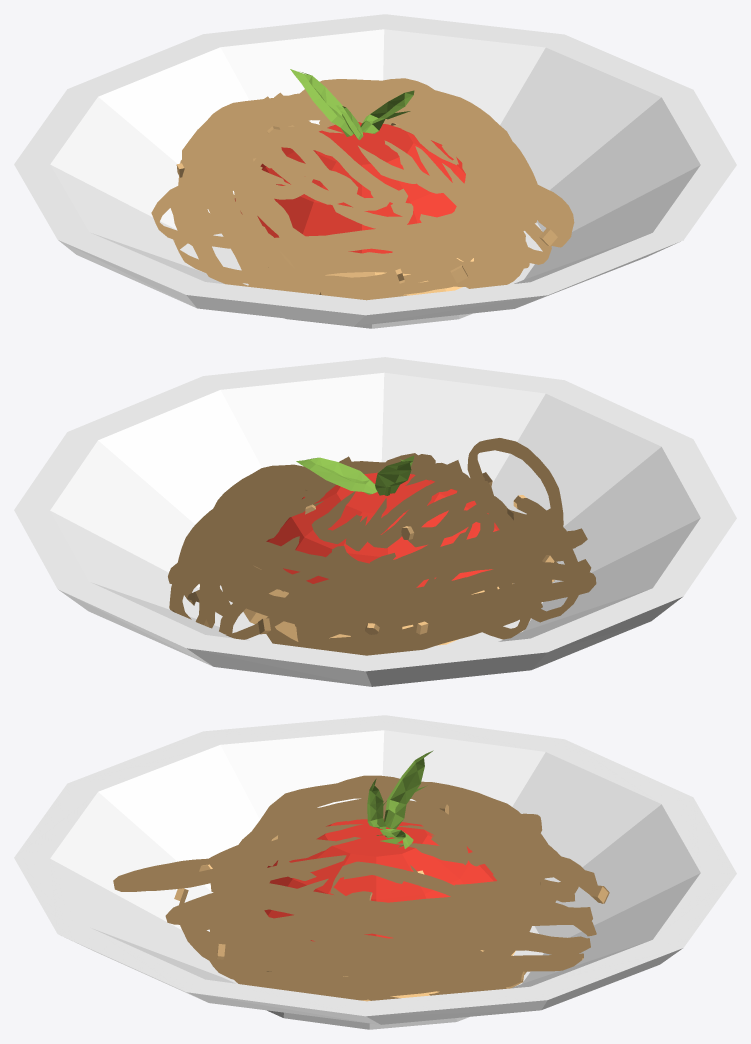
Rendered from antojos.glb.
The picture shows the model from 3 angles, top to bottom: view 1: azimuth 30°, elevation 25°; view 2: azimuth 150°, elevation 25°; view 3: azimuth 270°, elevation 25°; orthographic projection.
Visible parts, largest first — view 1: Node; view 2: Node; view 3: Node.
Boxes of the visible parts, left/top/right/bottom form: Node: left=14, top=14, right=736, bottom=328; Node: left=14, top=357, right=736, bottom=686; Node: left=14, top=715, right=736, bottom=1029.
Bounding box in the file's own units: 0.27 × 0.075 × 0.27.
